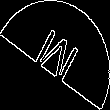M_SW: (28, 22, 82, 88)
